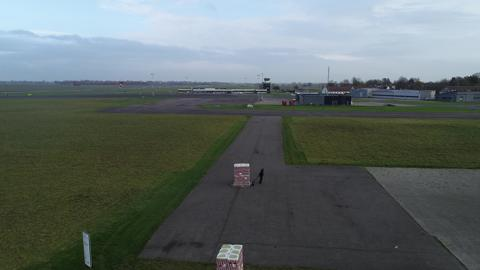RockwoolPallet: (234, 163, 251, 187)
